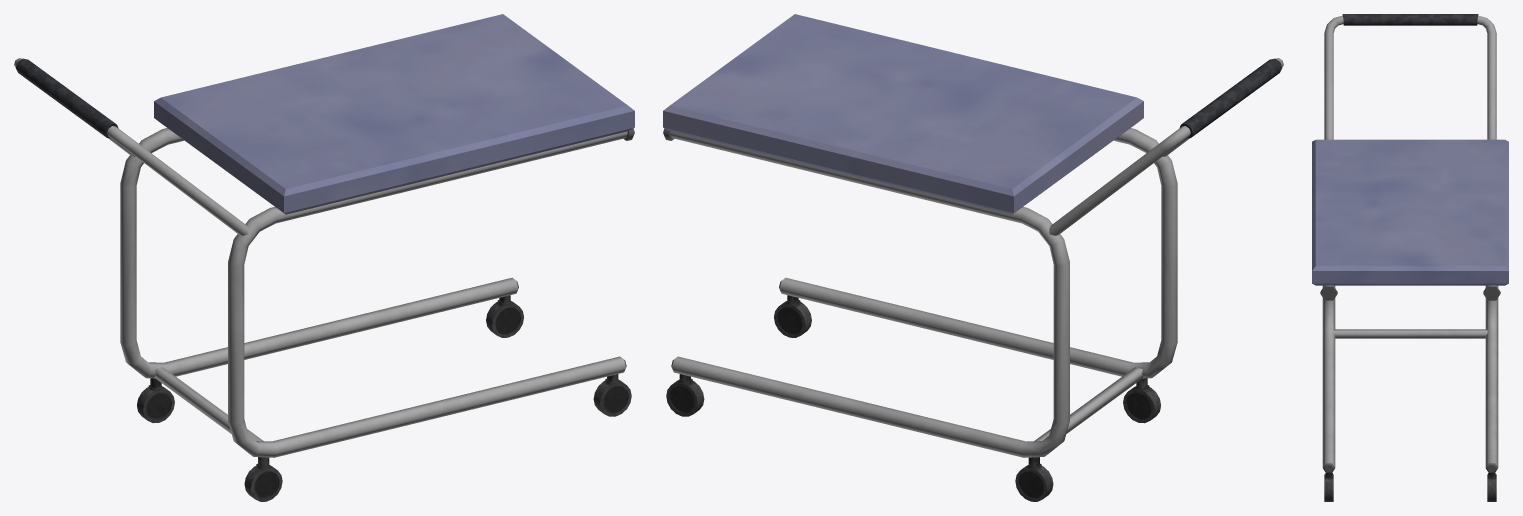
File: foodtable.glb
3 views of the same model, side by side, from view 1: azimuth 30°, elevation 25°; view 2: azimuth 150°, elevation 25°; view 3: azimuth 270°, elevation 25° (orthographic). The views are drawn at different scales.
Parts seen in each view (by area): view 1: FoodTable-material; view 2: FoodTable-material; view 3: FoodTable-material.
Boxes of the visible parts, x1,y1,x2,y2 form: FoodTable-material: (14, 14, 634, 501); FoodTable-material: (663, 14, 1283, 501); FoodTable-material: (1312, 14, 1508, 501).
Size of the model in its own units: 2 by 1.5 by 0.875.
Materials: 1 (1 with a texture image).
